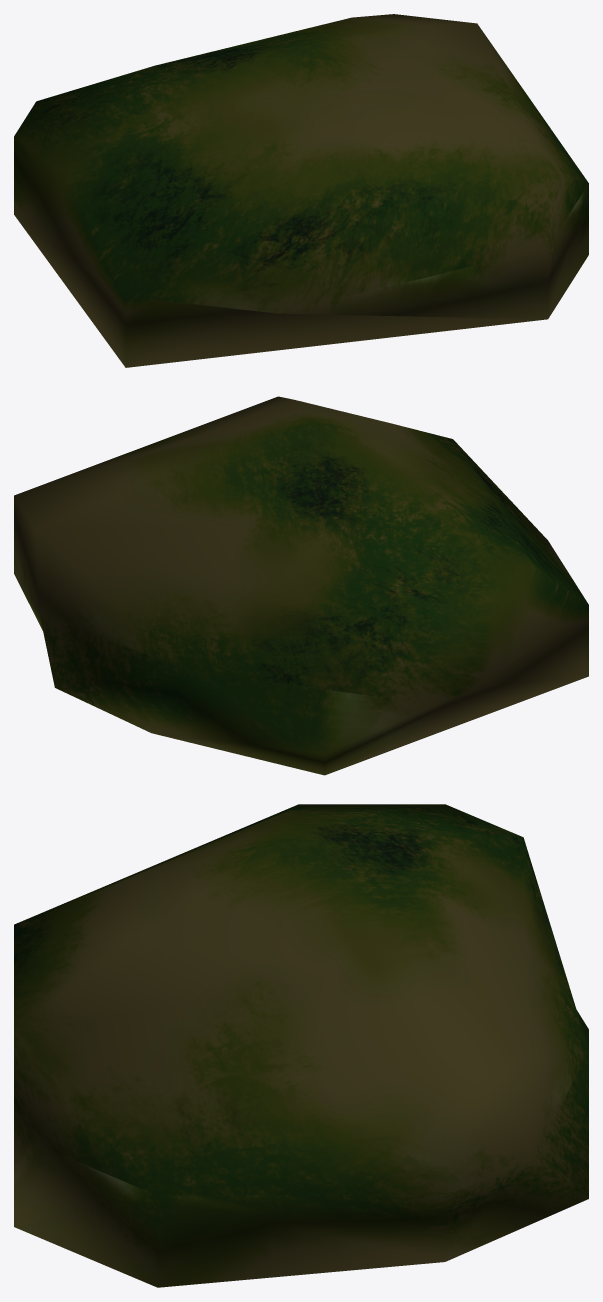
File: MossyRock2.obj
3 views of the same model, one above another, from view 1: azimuth 30°, elevation 25°; view 2: azimuth 150°, elevation 25°; view 3: azimuth 270°, elevation 25° (orthographic). The views are drawn at different scales.
Parts seen in each view (by area): view 1: pCube1_standardSurface2SG; view 2: pCube1_standardSurface2SG; view 3: pCube1_standardSurface2SG.
Boxes of the visible parts, x1,y1,x2,y2 form: pCube1_standardSurface2SG: [14, 14, 588, 367]; pCube1_standardSurface2SG: [14, 396, 588, 775]; pCube1_standardSurface2SG: [14, 804, 588, 1287].
Bounding box in the file's own units: 2.14 × 1.02 × 1.79.
Materials: 1 (1 with a texture image).
